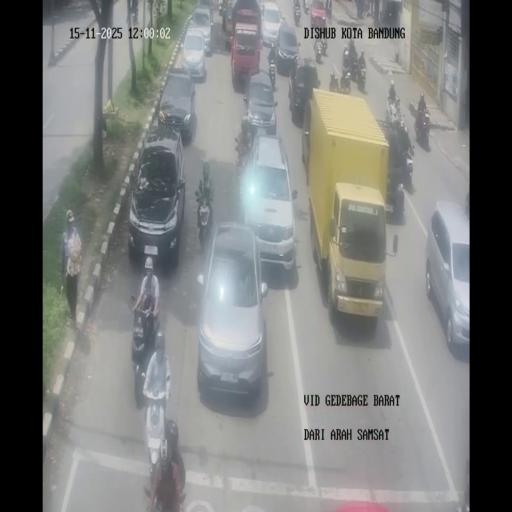car: (196, 221, 269, 401), (238, 131, 296, 271), (128, 126, 186, 264), (426, 202, 470, 351), (155, 69, 196, 143), (242, 69, 278, 137), (231, 22, 262, 88), (290, 58, 320, 121), (274, 20, 300, 74), (180, 27, 206, 80), (336, 500, 391, 512), (310, 1, 327, 29), (194, 2, 212, 28), (255, 0, 265, 18)
motorcycle: (130, 300, 158, 404), (142, 390, 170, 487), (195, 182, 214, 248), (414, 106, 431, 149), (390, 174, 406, 219), (235, 141, 252, 182), (401, 144, 414, 194), (340, 66, 352, 94), (385, 96, 397, 124), (356, 60, 366, 92), (349, 52, 359, 80), (314, 38, 324, 63), (268, 61, 276, 91), (267, 42, 277, 66), (329, 70, 339, 93), (292, 0, 301, 25), (342, 44, 350, 66), (464, 193, 470, 220), (130, 4, 137, 24), (325, 1, 332, 20), (363, 0, 370, 17), (303, 0, 310, 13), (378, 9, 384, 23)
truck: (304, 88, 390, 322), (222, 1, 236, 45)
